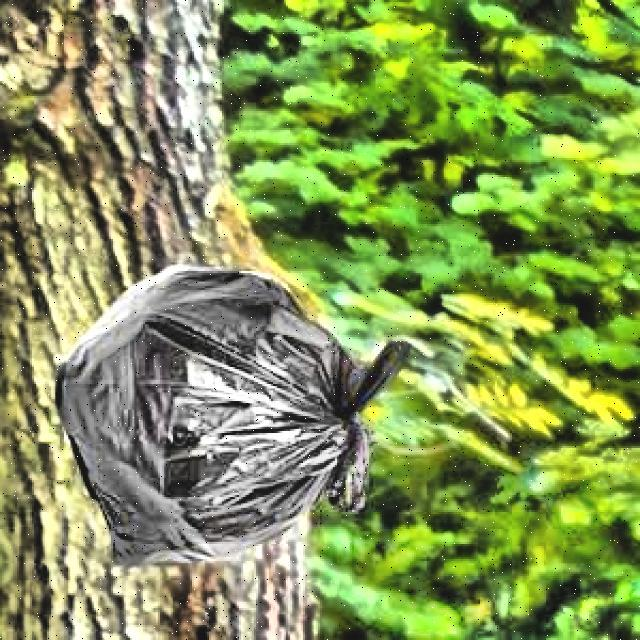Trashbag: (51, 262, 418, 572)
